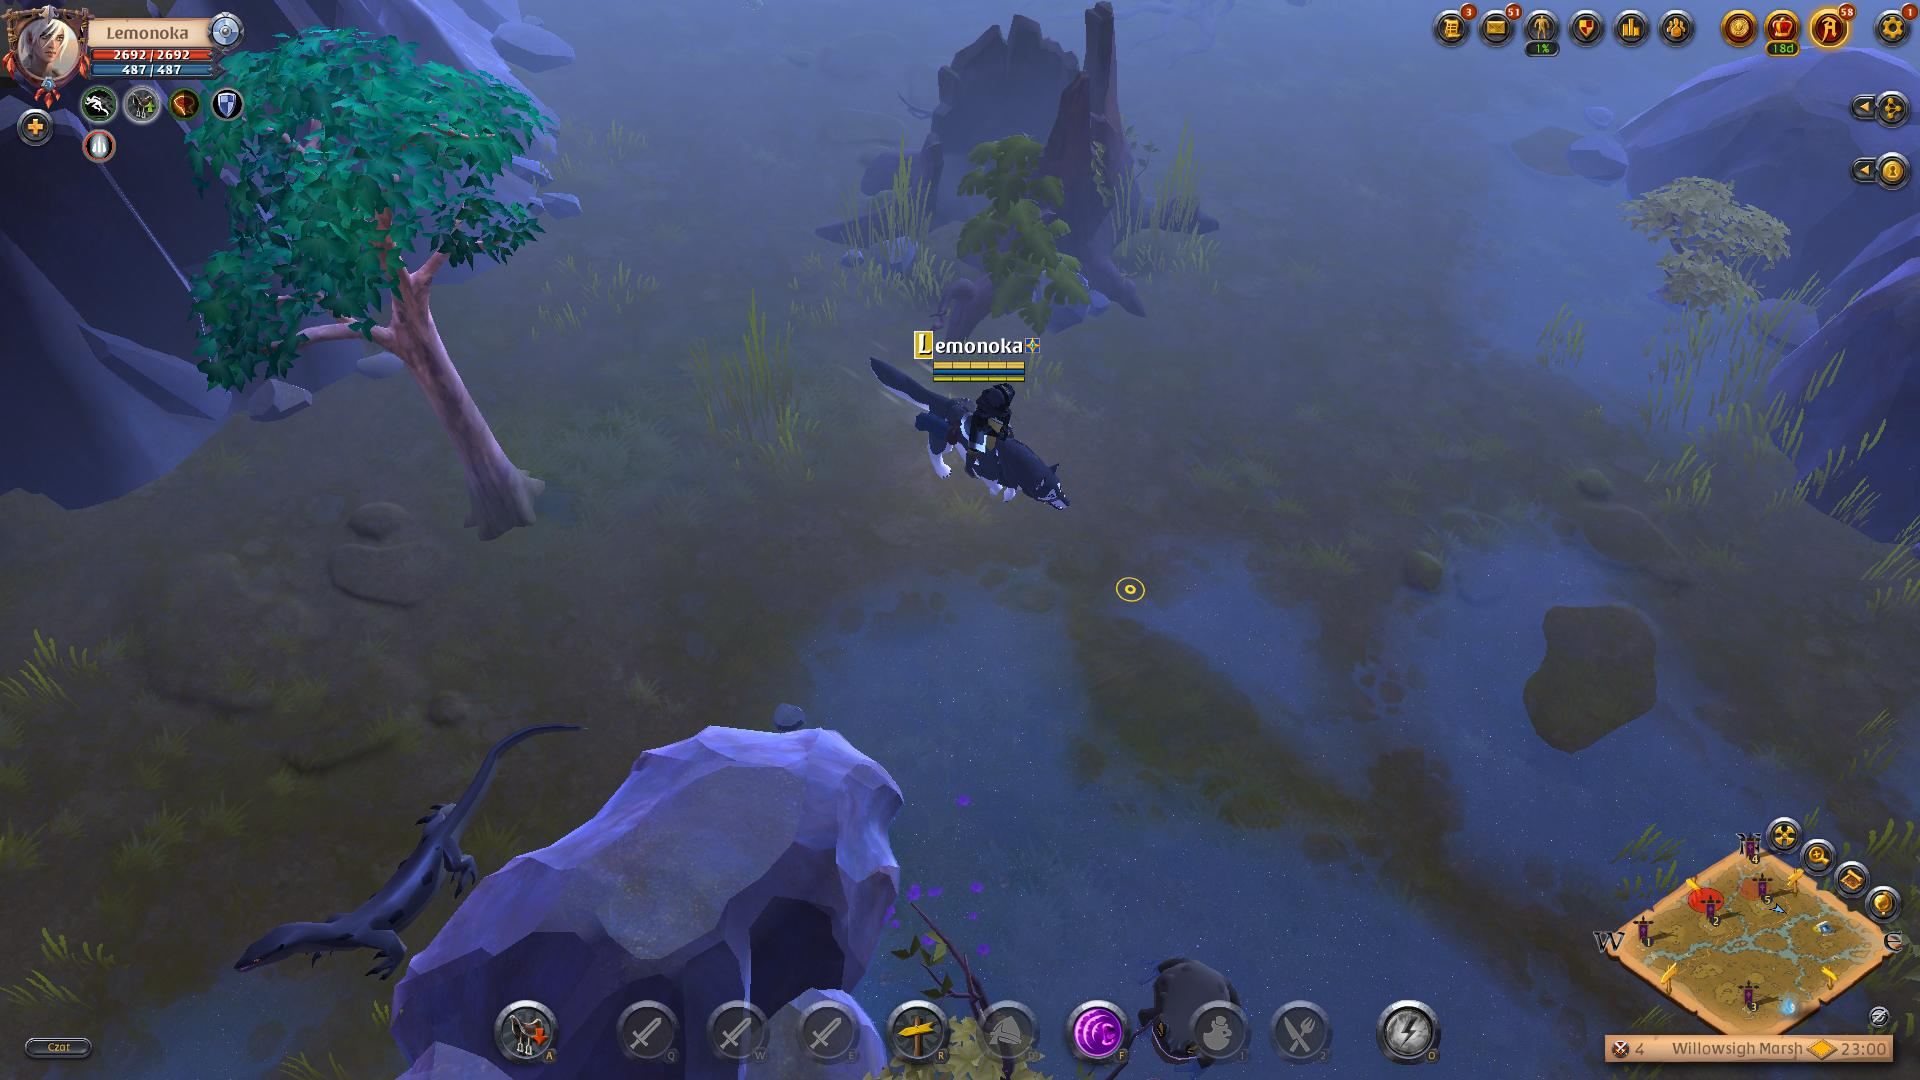wood tier 3: (247, 24, 555, 386)
